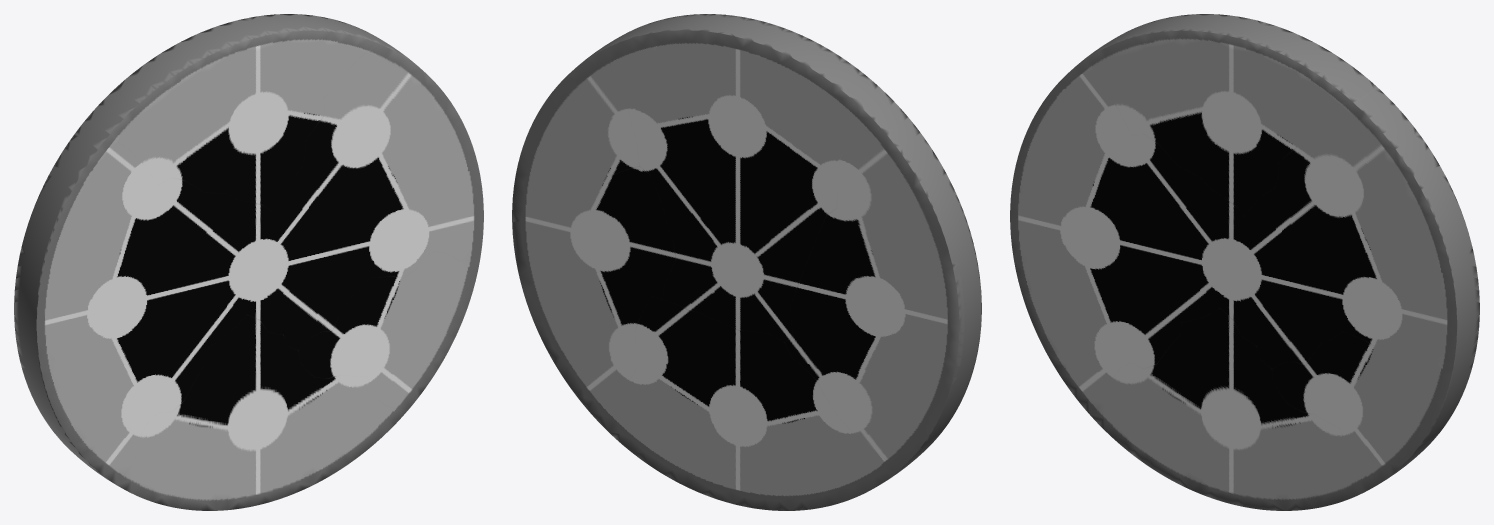
The model's file is planets_connected.glb.
The picture shows the model from 3 angles, left to right: view 1: azimuth 30°, elevation 25°; view 2: azimuth 150°, elevation 25°; view 3: azimuth 330°, elevation 25°; orthographic projection.
Visible parts, largest first — view 1: node_id27; view 2: node_id27; view 3: node_id27.
Boxes of the visible parts, x1,y1,x2,y2 form: node_id27: [14, 14, 483, 510]; node_id27: [512, 14, 981, 510]; node_id27: [1010, 14, 1479, 510].
Bounding box in the file's own units: 0.512 × 0.512 × 0.0447.
1 material, 1 textured.
